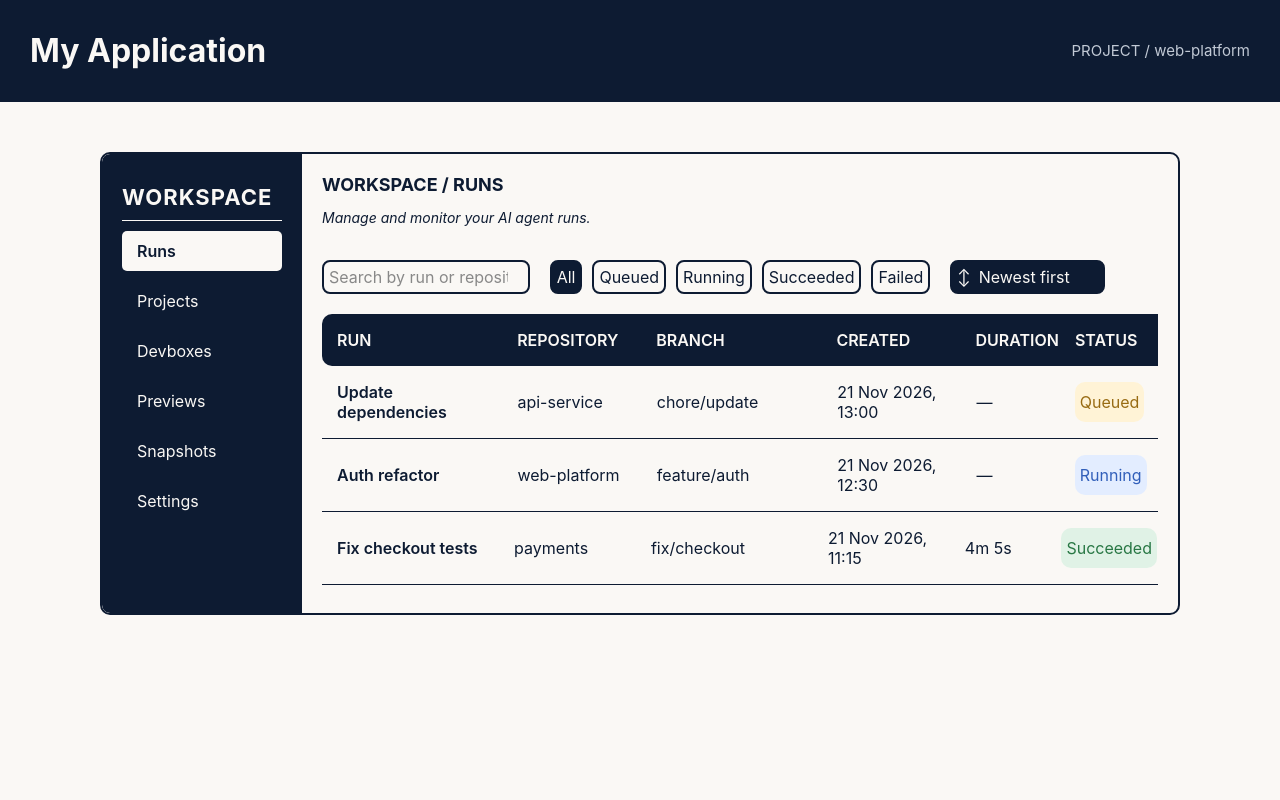
App › filters runs by status
The width and height of the screenshot is (1280, 800).
expect the heading "Auth refactor" is shown: met, box [337,465,439,485]
Click the button "Succeeded". click: [812, 277]
box: [762,260,861,294]
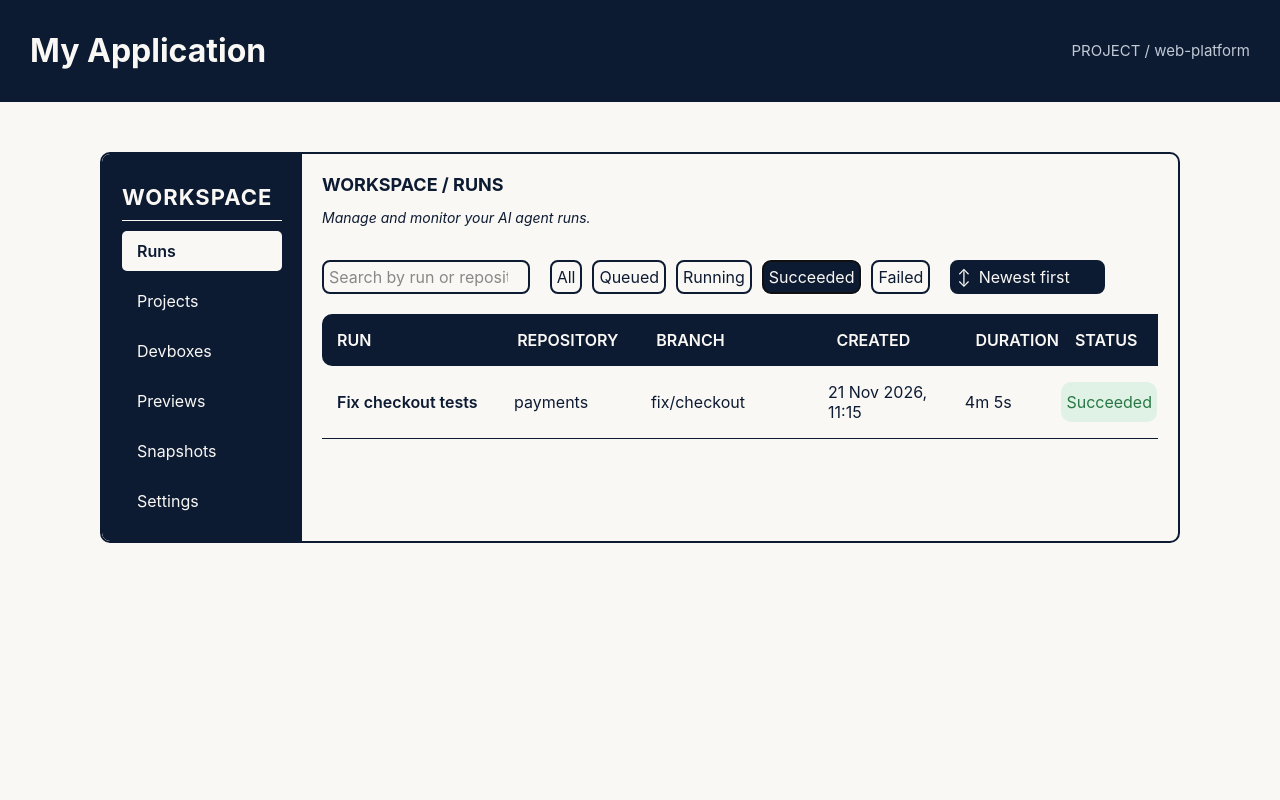
expect the heading "Fix checkout tests" is shown: met, box [337,392,498,412]
expect the button "Auth refactor" is gone: met
expect the button "Update dependencies" is gone: met
